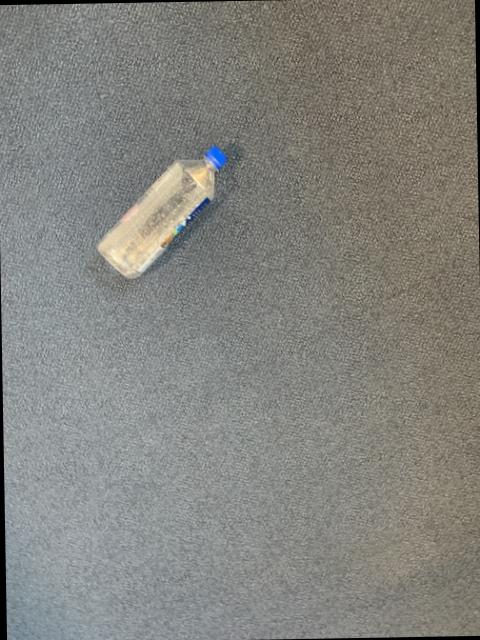plastic: (98, 144, 226, 275)
